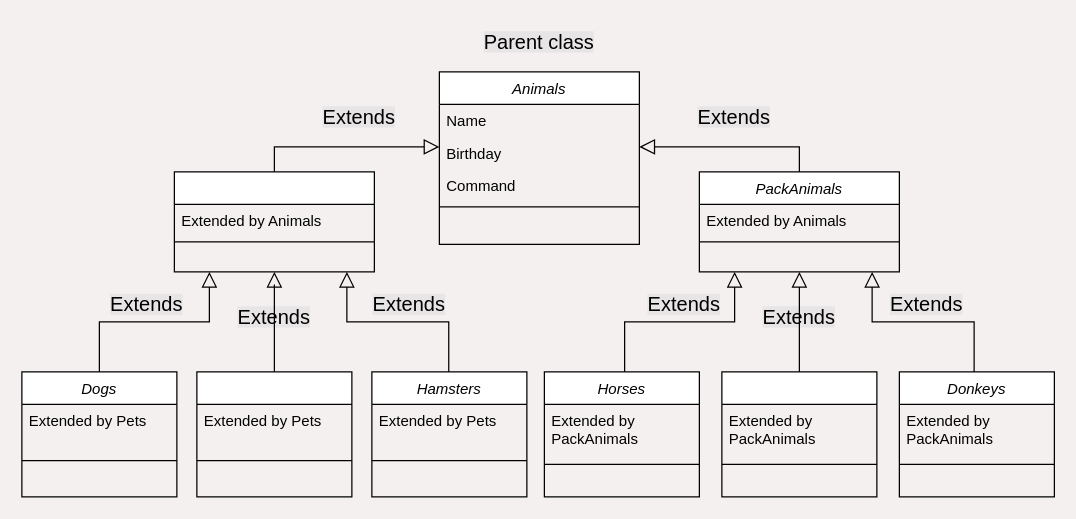
This 1076x519 diagram has some shape labels left out. The shapes that lost their labels are listed below. From the top down, each one's box as (x1, y1, x2, y2) in pixels, then its label:
(173, 171, 374, 272): Pets
(196, 371, 352, 497): Cats
(721, 371, 877, 497): Camels
